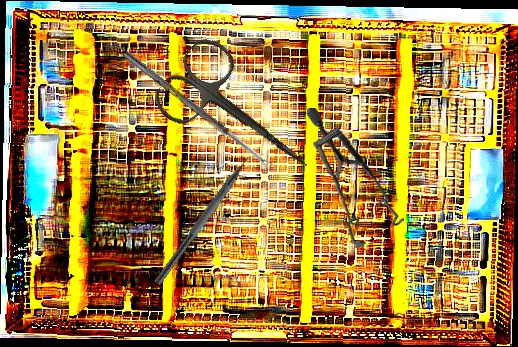Chopper: (153, 143, 267, 293)
Iris Scissors: (148, 30, 334, 204)
Speculum: (297, 107, 412, 252)
Surgical Spoon: (122, 50, 274, 172)
